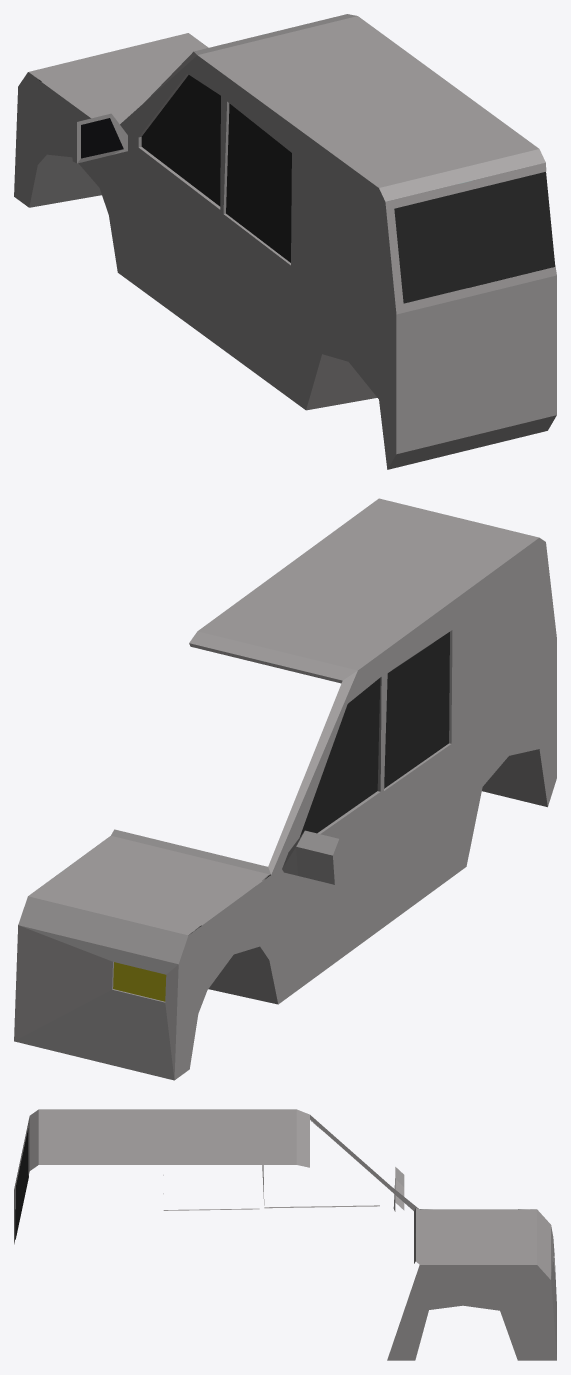
Rendered from car.gltf.
3 views of the same model, one above another, from view 1: azimuth 30°, elevation 25°; view 2: azimuth 150°, elevation 25°; view 3: azimuth 270°, elevation 25° (orthographic). The views are drawn at different scales.
Parts seen in each view (by area): view 1: car, glass; view 2: car; view 3: car.
Boxes of the visible parts, x1,y1,x2,y2 form: car: (14,14,556,469); glass: (81,118,123,158); car: (14,498,556,1080); car: (14,1109,556,1360).
Bounding box in the file's own units: 5.48 × 6.84 × 17.19.
2 materials, 1 textured.
